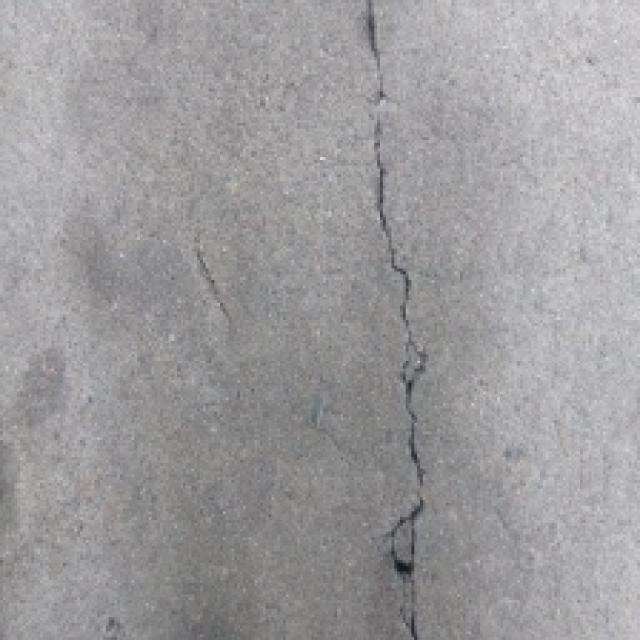crack: (322, 0, 476, 640)
